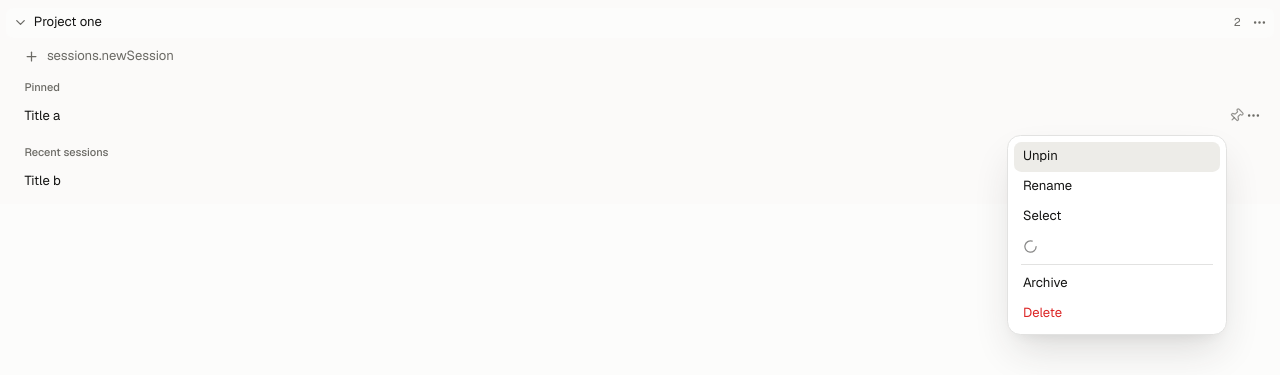
Test: renaming a pinned project row opens one editor in its project
The image size is (1280, 375).
Earlier steps of the test are not shown.
Step 1. Click the menu item "Rename" → (1117, 187), box [1014,172,1220,202]
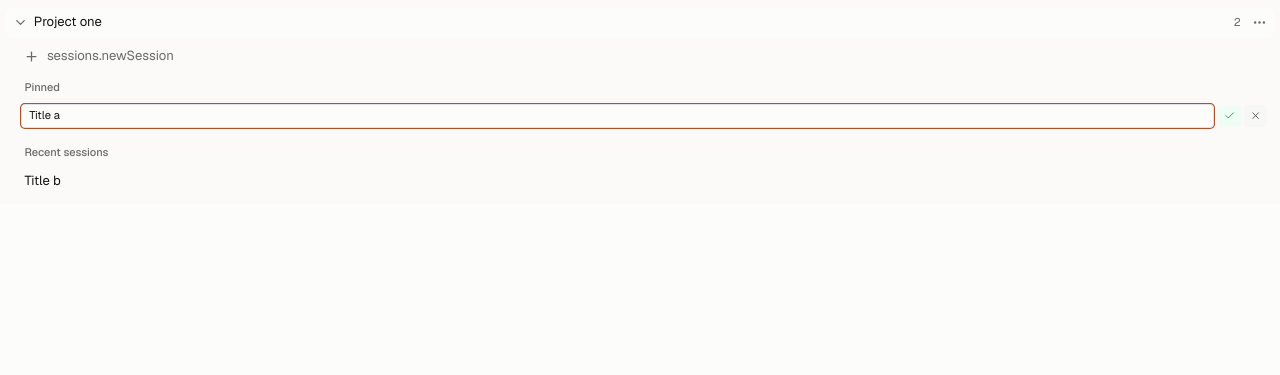
expect the field is shown: met, box [21,104,1214,128]
